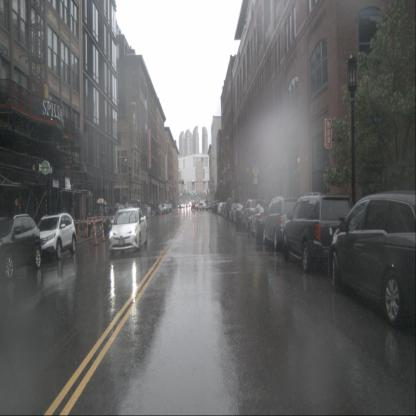human-pedestrian-adult: (96, 198, 106, 220)
movable_object-trafficcone: (93, 219, 99, 246), (101, 214, 106, 242), (93, 214, 98, 236), (85, 215, 89, 238), (76, 218, 81, 232), (159, 210, 162, 218)
vehicle-car: (328, 190, 416, 330), (282, 192, 358, 273), (0, 214, 42, 280), (263, 195, 307, 251), (34, 212, 77, 262), (108, 206, 148, 256), (250, 202, 279, 238), (241, 198, 268, 232), (103, 205, 126, 236), (232, 202, 252, 227), (224, 197, 240, 220), (229, 203, 243, 223), (220, 202, 230, 218), (196, 202, 209, 211), (218, 202, 227, 215), (155, 203, 164, 215), (214, 200, 222, 213), (161, 203, 169, 214), (166, 203, 172, 212), (207, 202, 213, 210), (191, 202, 196, 210)
